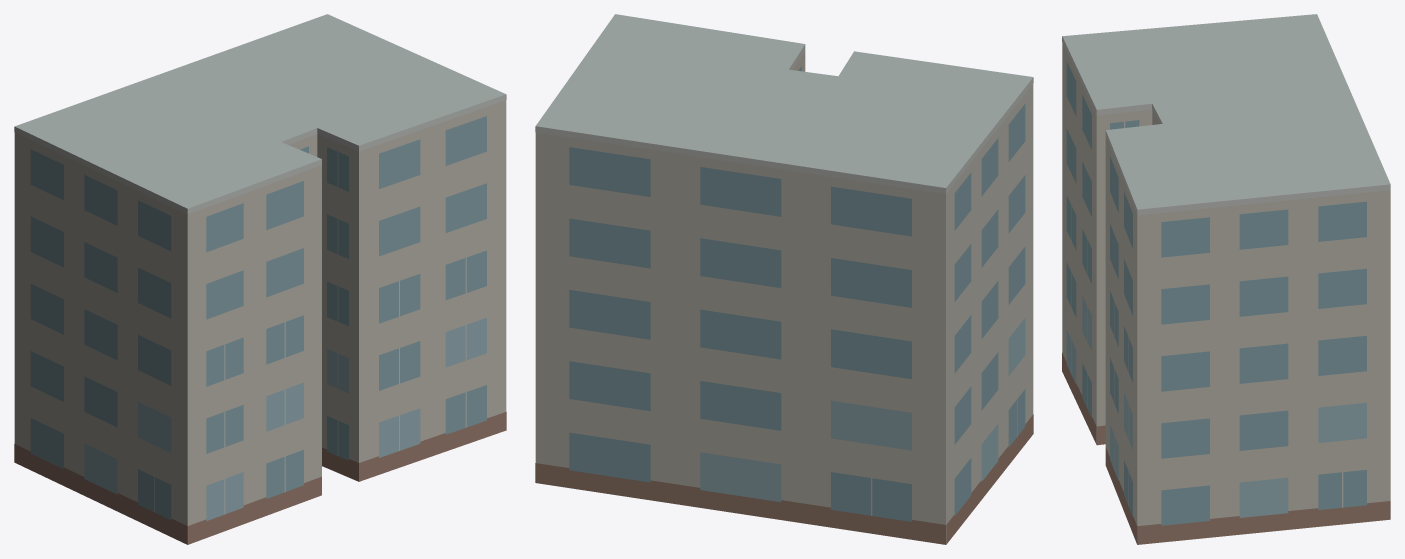
File: survey-upis-32894820.glb
The picture shows the model from 3 angles, left to right: view 1: azimuth 30°, elevation 25°; view 2: azimuth 150°, elevation 25°; view 3: azimuth 270°, elevation 25°; orthographic projection. The views are drawn at different scales.
Parts seen in each view (by area): view 1: survey-upis-32894820.tmp; view 2: survey-upis-32894820.tmp; view 3: survey-upis-32894820.tmp.
Boxes of the visible parts, left/top/right/bottom form: survey-upis-32894820.tmp: left=14, top=14, right=506, bottom=544; survey-upis-32894820.tmp: left=535, top=14, right=1033, bottom=544; survey-upis-32894820.tmp: left=1062, top=14, right=1390, bottom=544.
Bounding box in the file's own units: 17.78 × 14.2 × 12.62.
